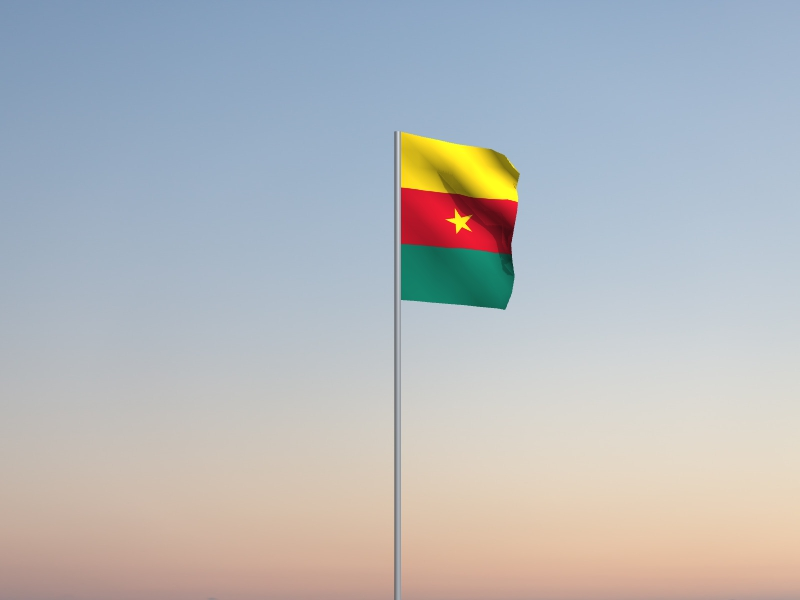cm: (402, 133, 522, 312)
